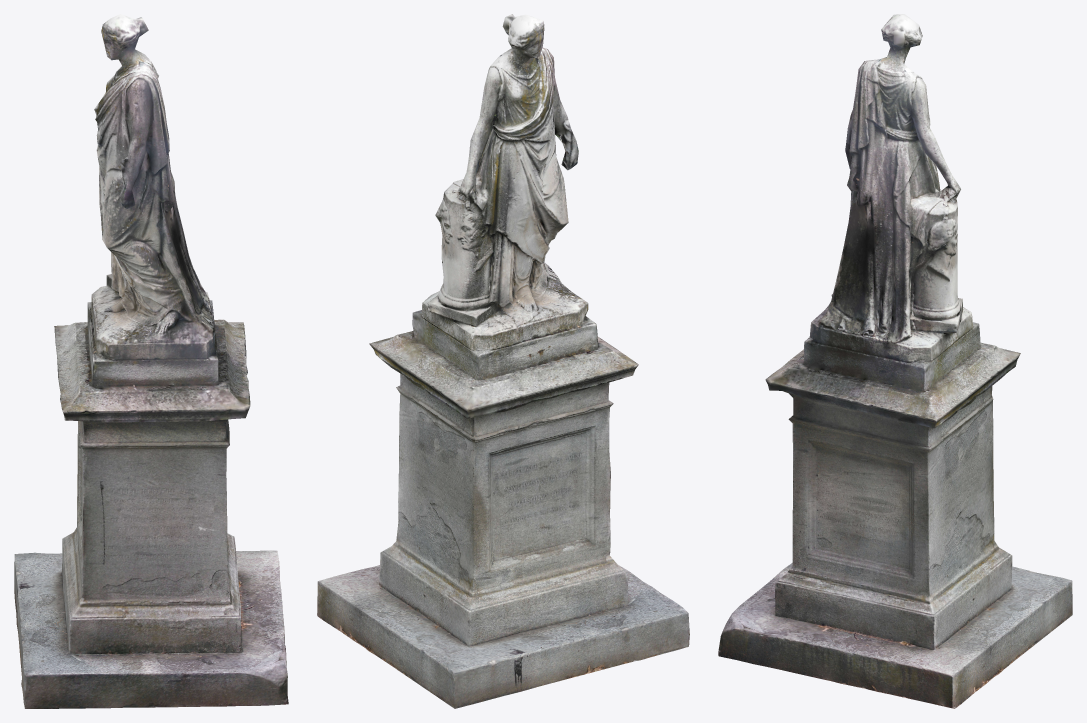
File: statue._monument_in_alba_italy.glb
The picture shows the model from 3 angles, left to right: view 1: azimuth 30°, elevation 25°; view 2: azimuth 150°, elevation 25°; view 3: azimuth 270°, elevation 25°; orthographic projection. The views are drawn at different scales.
Parts seen in each view (by area): view 1: Object_2; view 2: Object_2; view 3: Object_2.
Part boxes in pixels (x1,y1,x2,y2): Object_2: (14,14,288,708); Object_2: (317,14,689,708); Object_2: (718,14,1072,708).
Bounding box in the file's own units: 3.33 × 6.42 × 3.39.
Materials: 1 (1 with a texture image).
